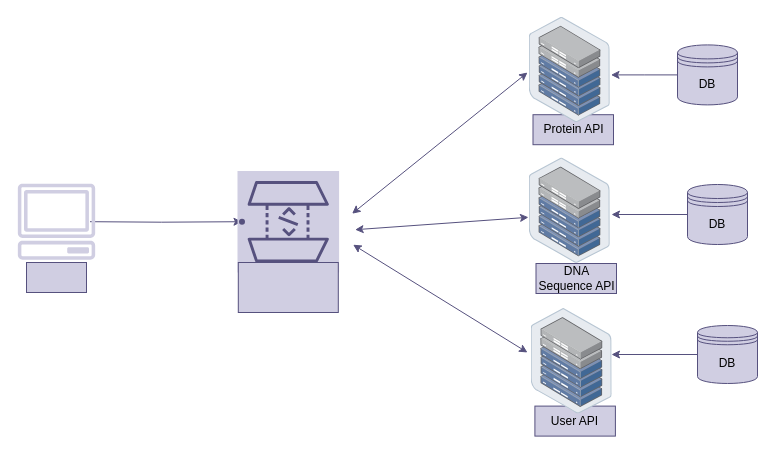
The diagram is 775 pixels wide and 454 high, and some of its shapes have lost their labels. Here are the shapes that lost their labels. From the top down, the box of each, then its label:
(26, 262, 86, 292): Client
(237, 262, 338, 312): API Gateway
